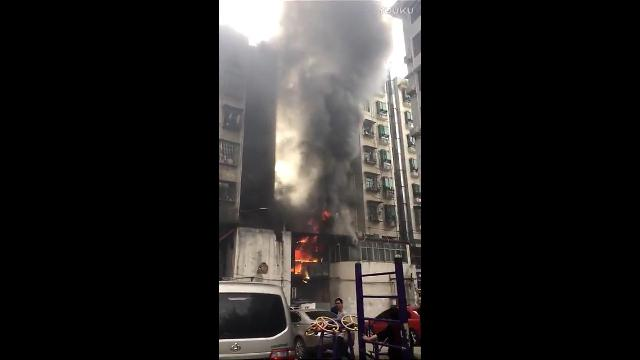fire: (294, 249, 316, 261), (294, 263, 300, 273), (299, 236, 309, 242)
